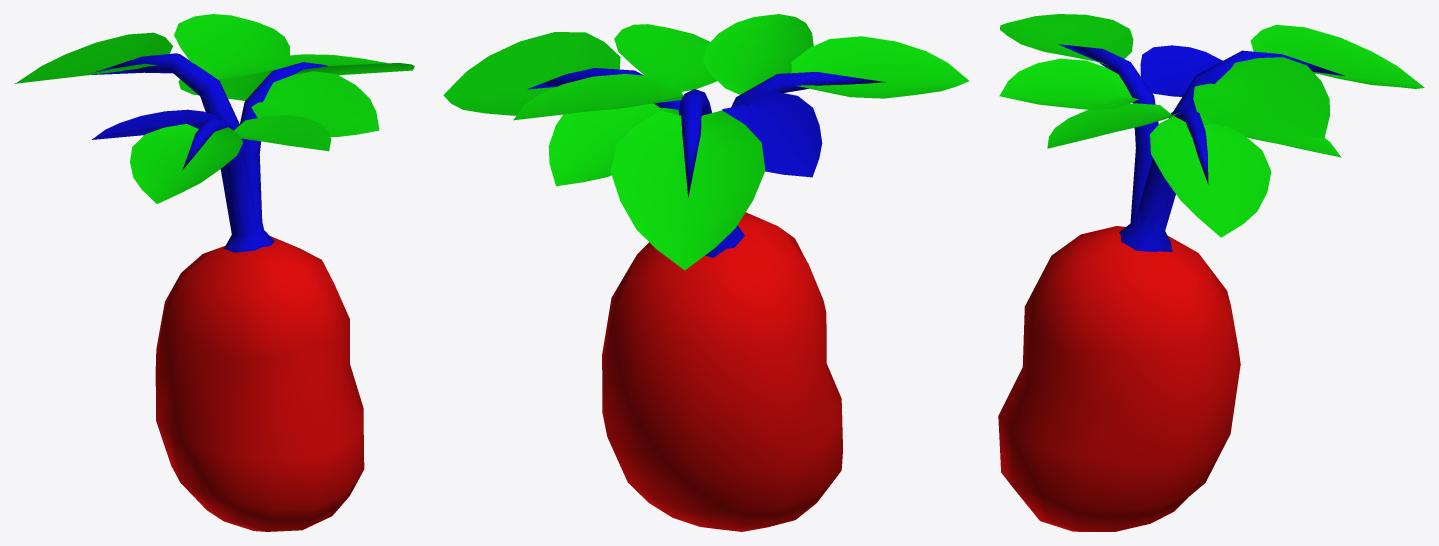
The model's file is Potato_5.fbx.
3 renders of one model, left to right at view 1: azimuth 30°, elevation 25°; view 2: azimuth 150°, elevation 25°; view 3: azimuth 270°, elevation 25°, orthographic. The views are drawn at different scales.
Visible parts, largest first — view 1: BSTC_Potato_5; view 2: BSTC_Potato_5; view 3: BSTC_Potato_5.
Boxes of the visible parts, box(x1,y1,x2,y2) form: BSTC_Potato_5: box(14, 14, 414, 531); BSTC_Potato_5: box(443, 14, 969, 531); BSTC_Potato_5: box(998, 14, 1424, 531).
Bounding box in the file's own units: 80.08 × 90.8 × 76.84.
